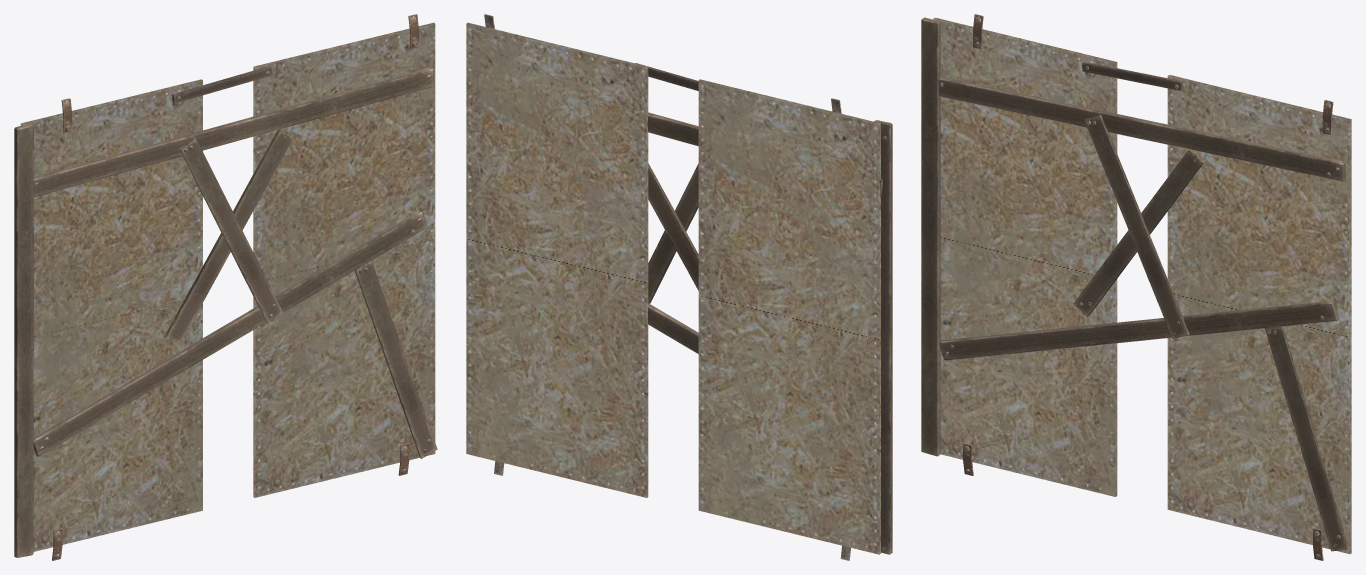
Rendered from plywood_boarding_300_a_mossy.glb.
The picture shows the model from 3 angles, left to right: view 1: azimuth 30°, elevation 25°; view 2: azimuth 150°, elevation 25°; view 3: azimuth 330°, elevation 25°; orthographic projection.
Parts seen in each view (by area): view 1: plywood_boarding_300_a_mossy; view 2: plywood_boarding_300_a_mossy; view 3: plywood_boarding_300_a_mossy.
Part boxes in pixels (box(x1,y1,x2,y2)): plywood_boarding_300_a_mossy: box(14, 14, 437, 560); plywood_boarding_300_a_mossy: box(466, 14, 892, 560); plywood_boarding_300_a_mossy: box(921, 14, 1351, 560).
Size of the model in its own units: 3.06 by 3.17 by 0.0761.
Materials: 1 (1 with a texture image).
